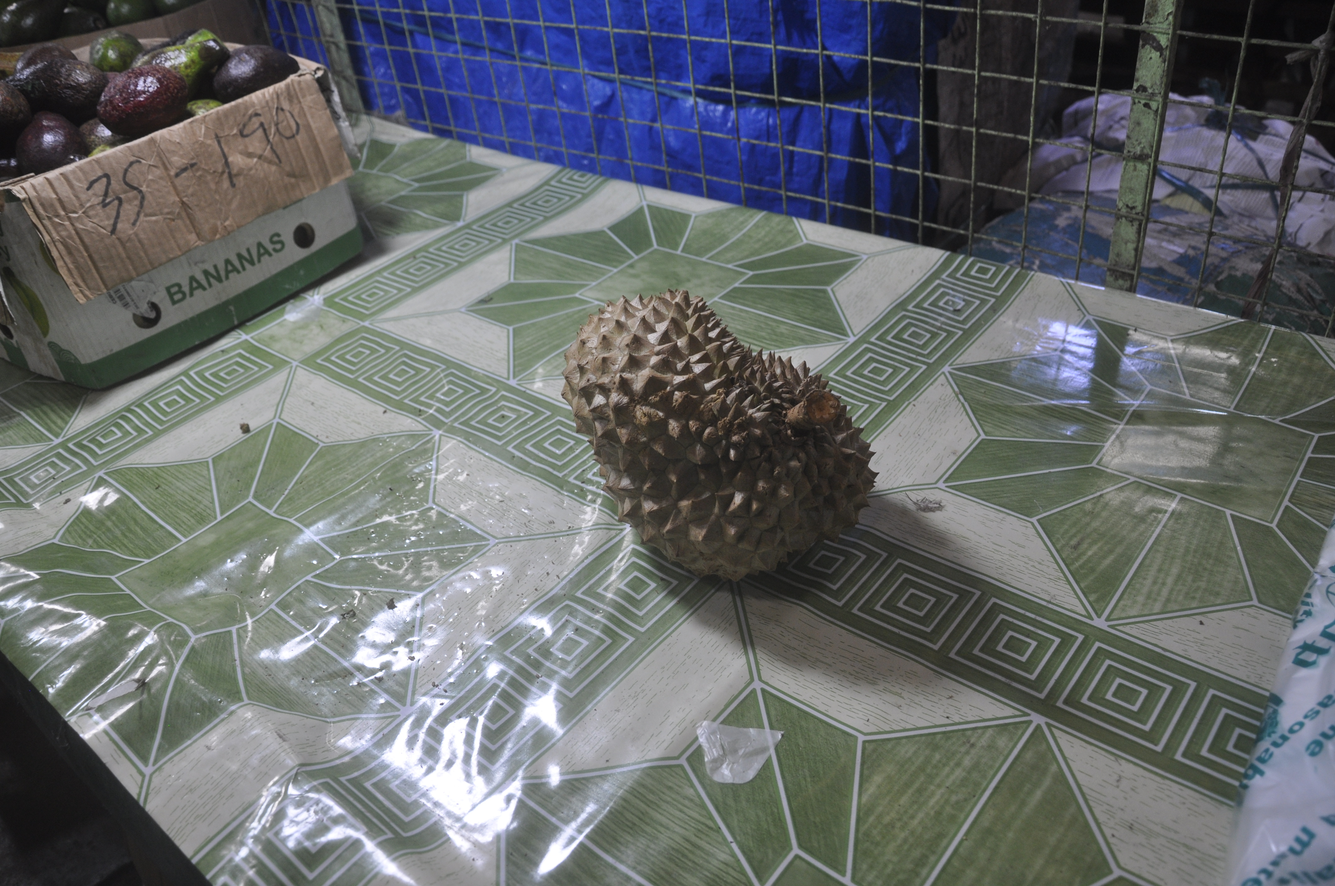mature: (543, 283, 887, 611)
